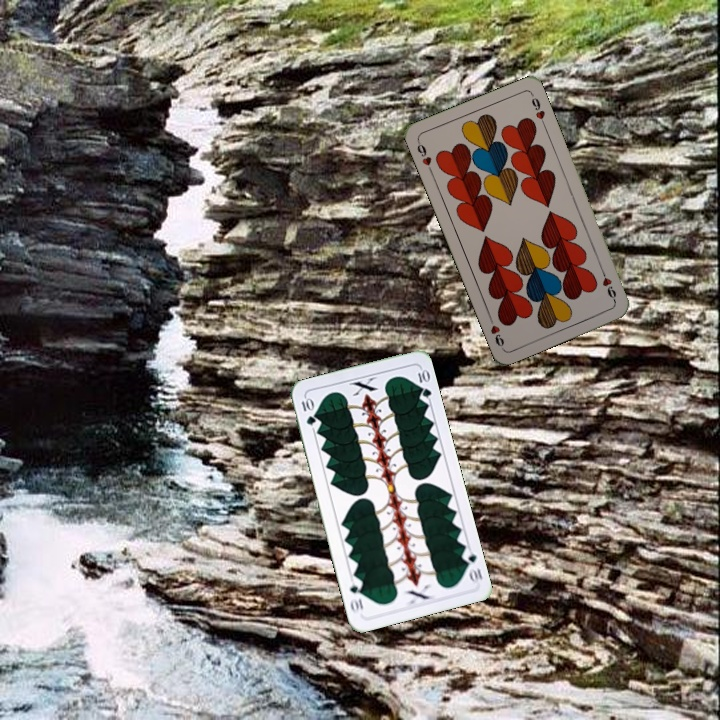G10: (458, 545, 485, 586), (297, 394, 318, 428)
H9: (597, 265, 619, 304), (413, 137, 435, 175)
